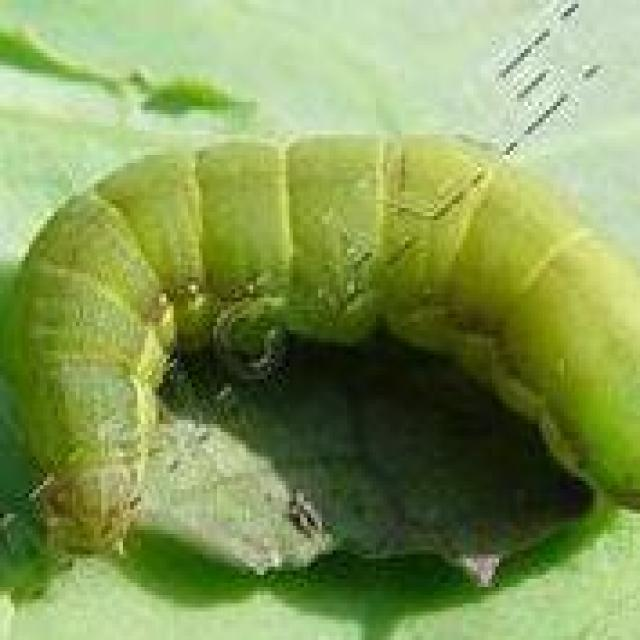BeetArmyWorm-Larva-: (12, 124, 636, 566)
